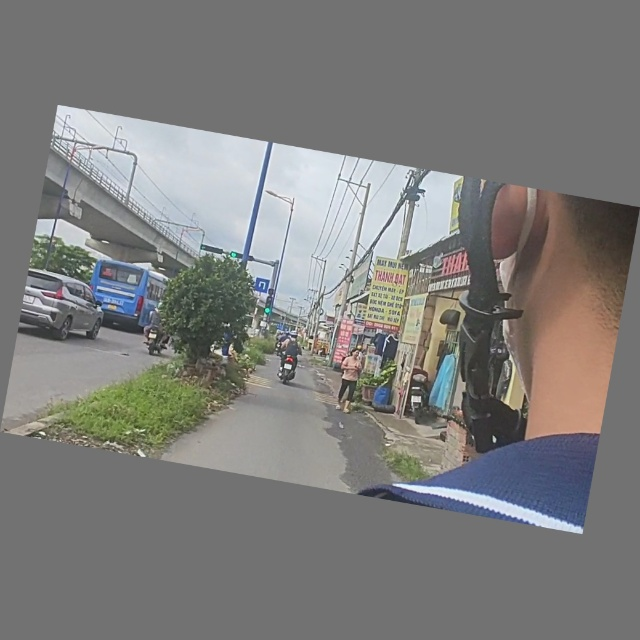I.409: (252, 276, 272, 295)
